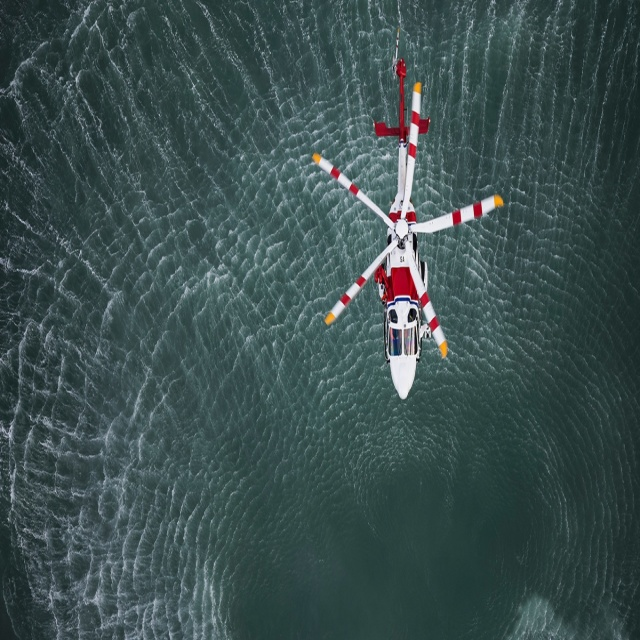helicopter: (314, 30, 502, 399)
